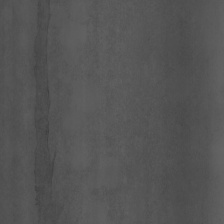water_spot: (28, 4, 60, 216)
